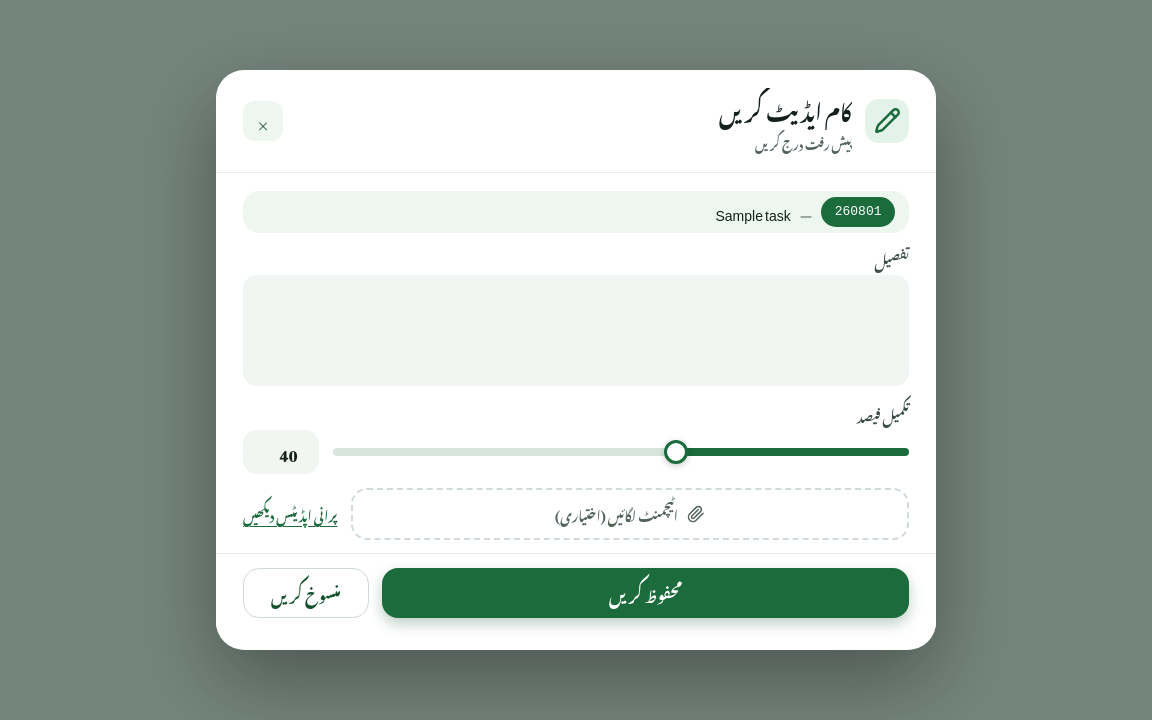
Test: UpdateModal (docs/08-ui-ux.md §7, docs/09-frontend-features.md §3) › the % slider and number input stay in sync
Expected: the text "Sample task" is shown, [716,194,791,229]
Set the slider named "Completion % slider" to "75" at (761, 452), box [333,430,909,474]
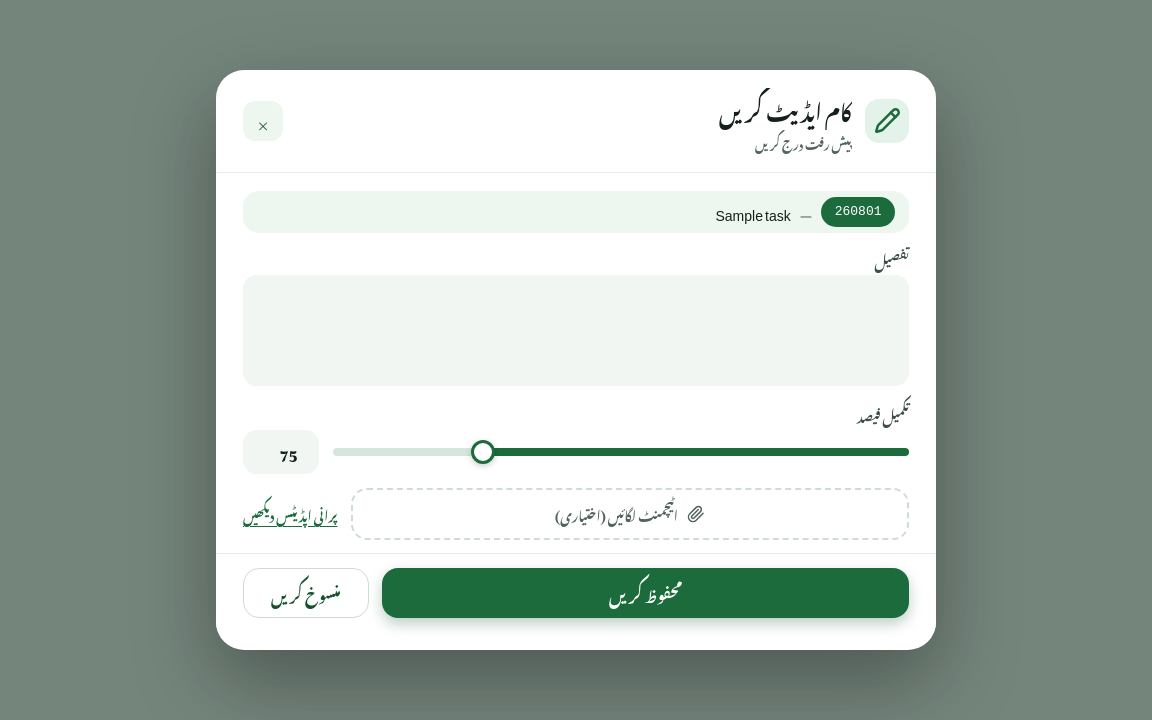
Result: the number field labelled "تکمیل فیصد" holds "75" at [243,430,319,474]
